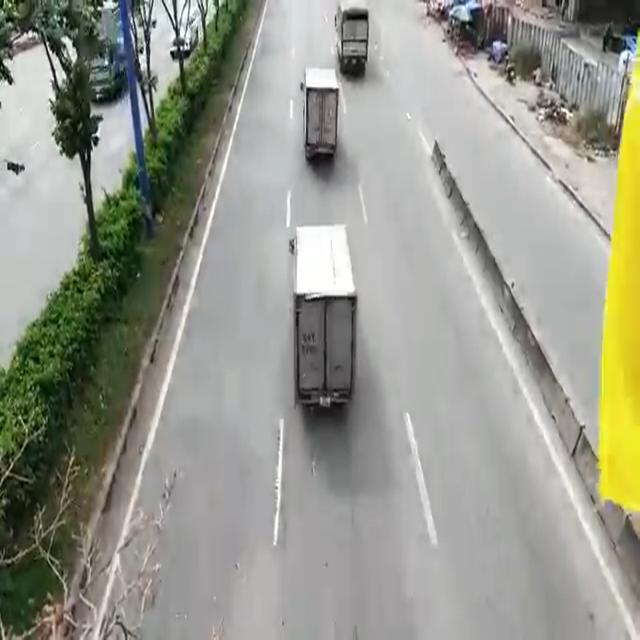truck: (285, 218, 359, 416), (300, 62, 340, 173), (336, 2, 370, 82)
